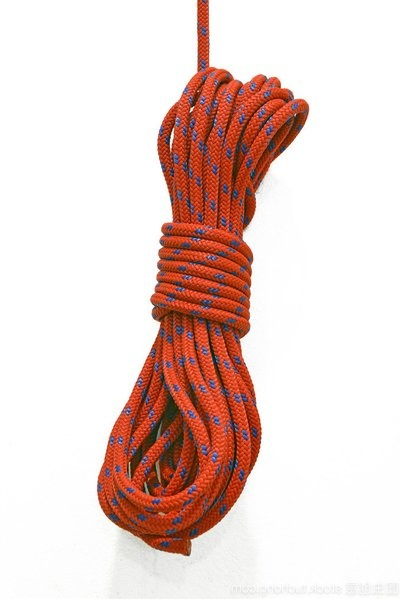9/可回收垃圾/绳子: (97, 1, 310, 556)
